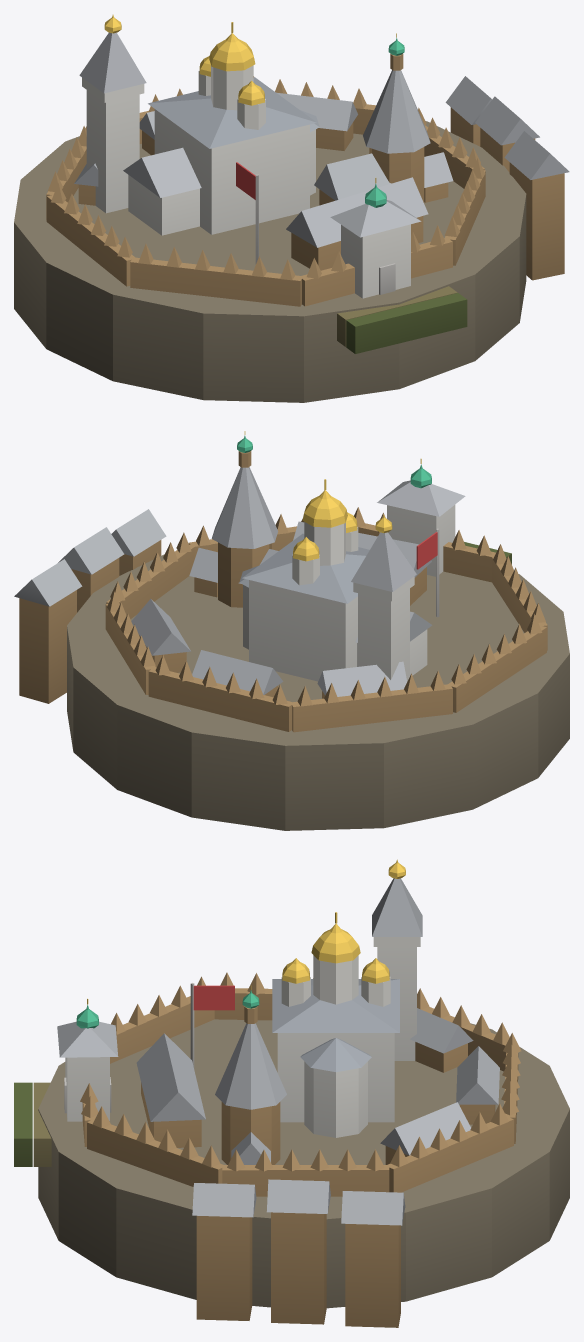
File: abbey_rus_b.glb
3 renders of one model, top to bottom at view 1: azimuth 30°, elevation 25°; view 2: azimuth 150°, elevation 25°; view 3: azimuth 270°, elevation 25°, orthographic. The views are drawn at different scales.
Visible parts, largest first — view 1: abbey_rus_b; view 2: abbey_rus_b; view 3: abbey_rus_b.
Boxes of the visible parts, <box> form: abbey_rus_b: <box>14,14,569,402</box>; abbey_rus_b: <box>14,431,569,830</box>; abbey_rus_b: <box>14,859,569,1327</box>.
Size of the model in its own units: 2.17 by 1.17 by 2.09.
